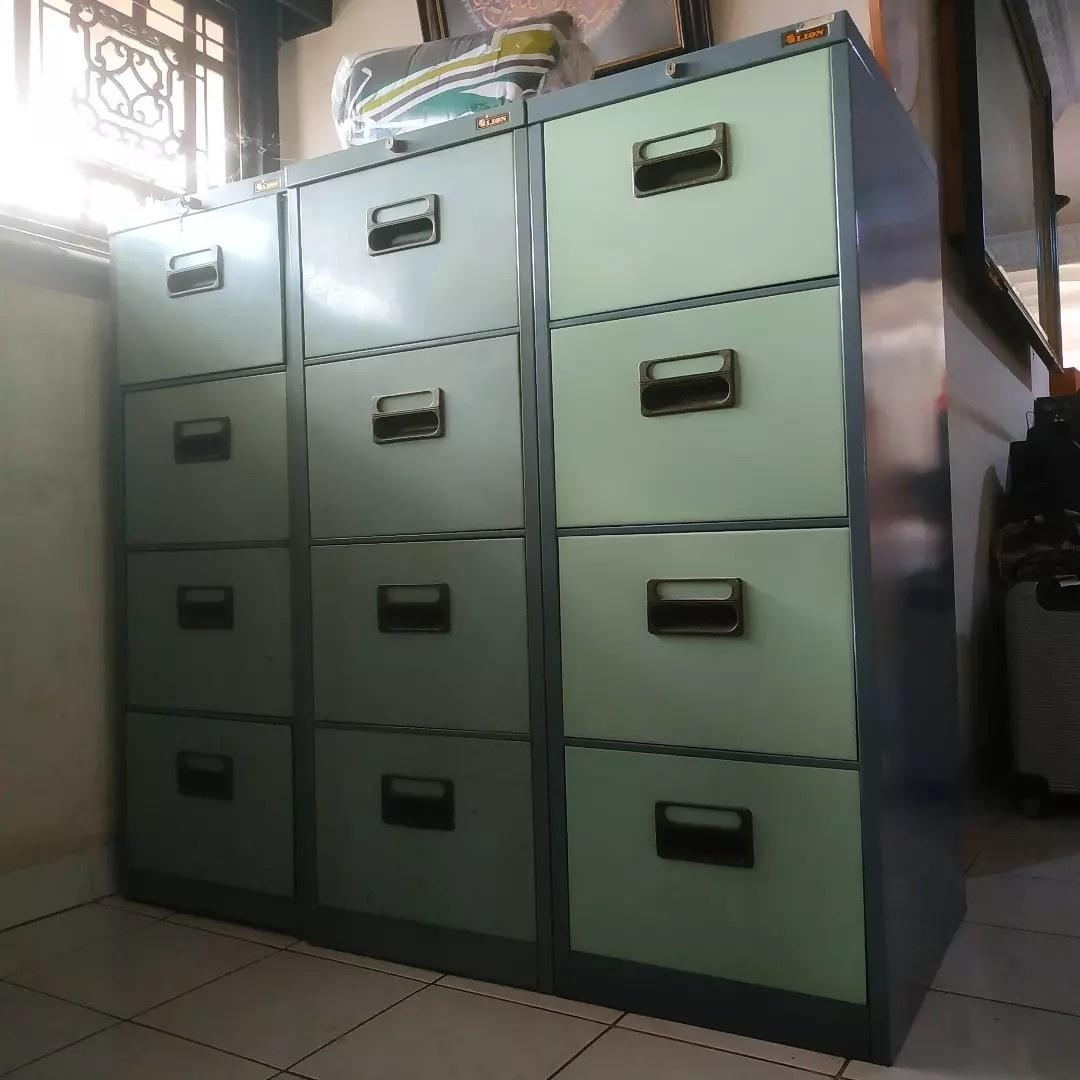Filing Cabinet: (525, 8, 893, 1067), (282, 98, 557, 994), (104, 167, 307, 937)
